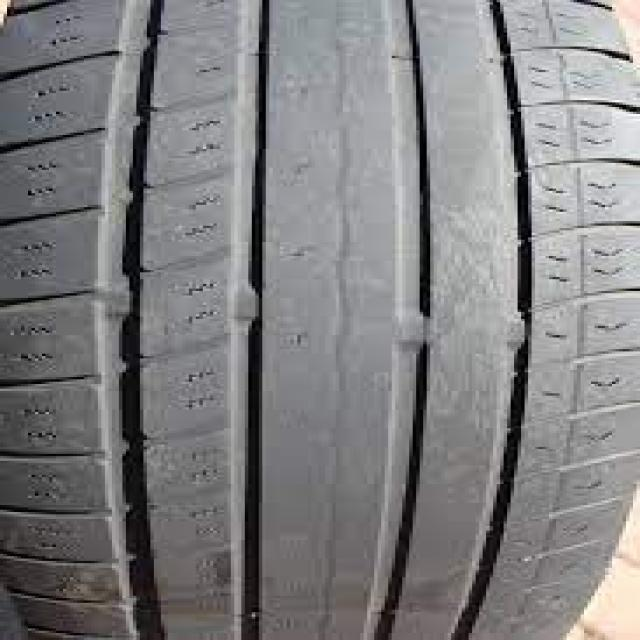Flat spots: (131, 0, 519, 640)
